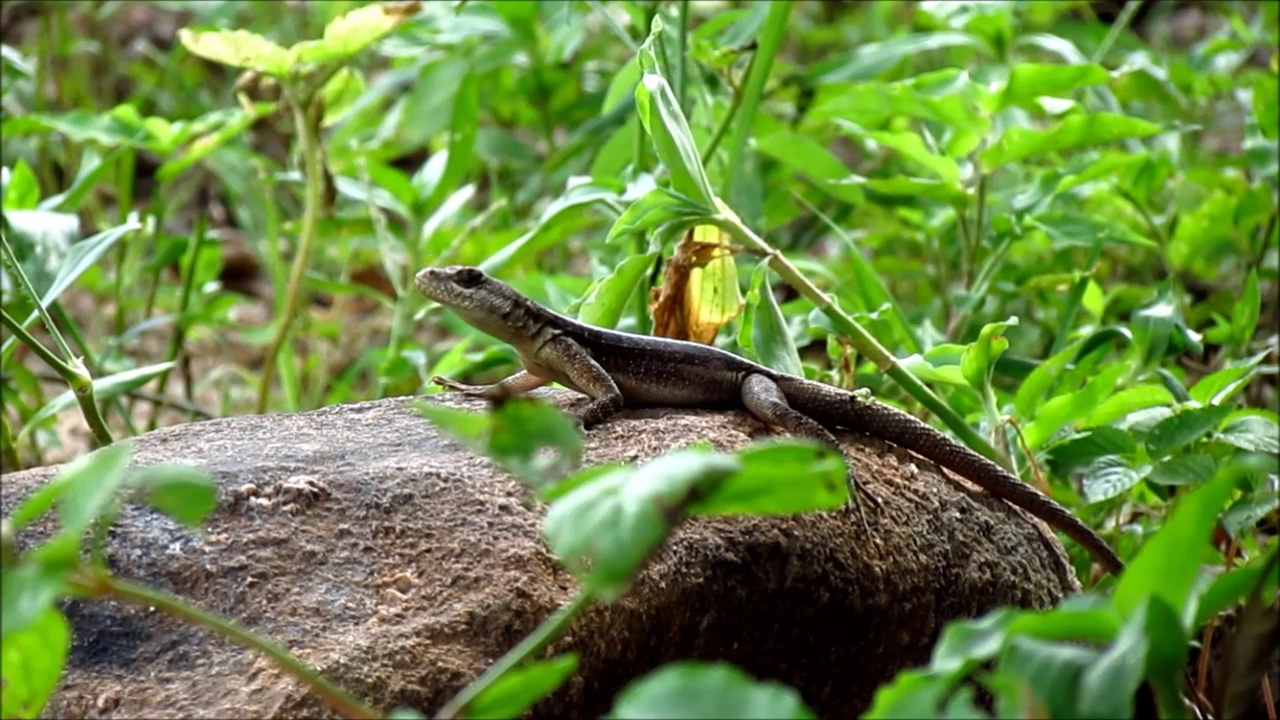body: (431, 306, 1155, 600)
head: (415, 266, 527, 329)
